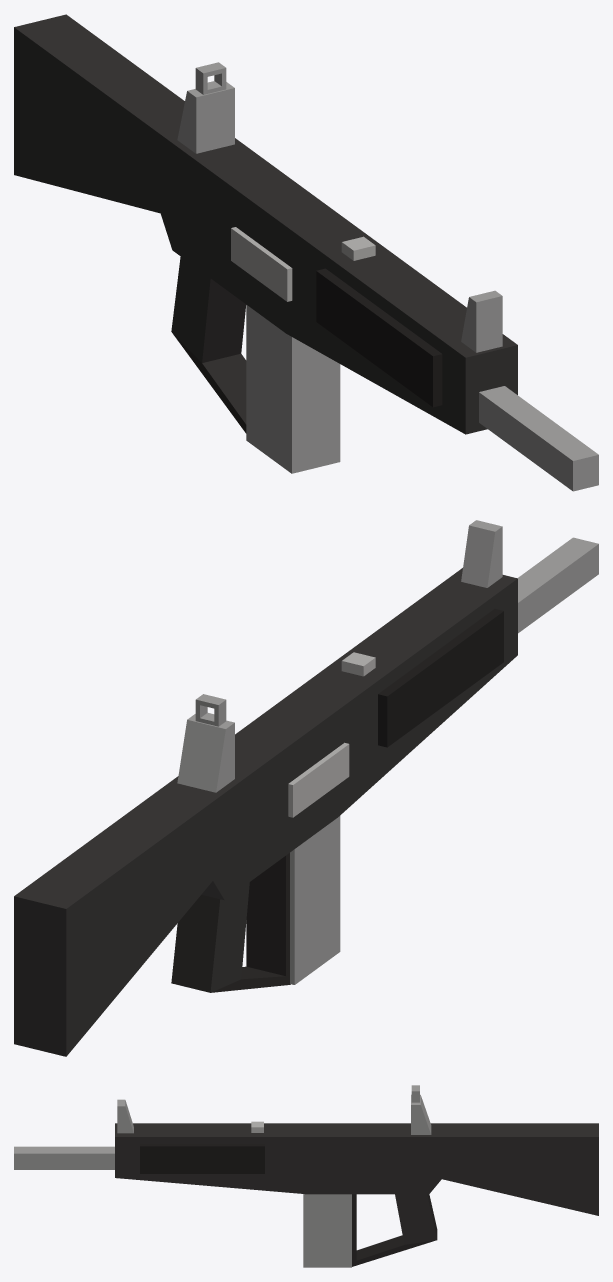
File: AutoSG.FBX
The picture shows the model from 3 angles, top to bottom: view 1: azimuth 30°, elevation 25°; view 2: azimuth 150°, elevation 25°; view 3: azimuth 270°, elevation 25°; orthographic projection. The views are drawn at different scales.
Parts seen in each view (by area): view 1: AutoSG, AutoSGmag, AutoSGsights; view 2: AutoSG, AutoSGmag, AutoSGsights; view 3: AutoSG, AutoSGmag, AutoSGsights.
Part boxes in pixels (box(x1,y1,x2,y2)): AutoSG: box(14, 14, 598, 491); AutoSGmag: box(246, 305, 340, 473); AutoSGsights: box(177, 62, 502, 352); AutoSG: box(14, 537, 598, 1056); AutoSGmag: box(246, 816, 340, 984); AutoSGsights: box(177, 520, 502, 792); AutoSG: box(14, 1121, 598, 1266); AutoSGmag: box(303, 1194, 351, 1267); AutoSGsights: box(117, 1085, 431, 1134).
Size of the model in its own units: 16.34 by 217 by 71.25.
